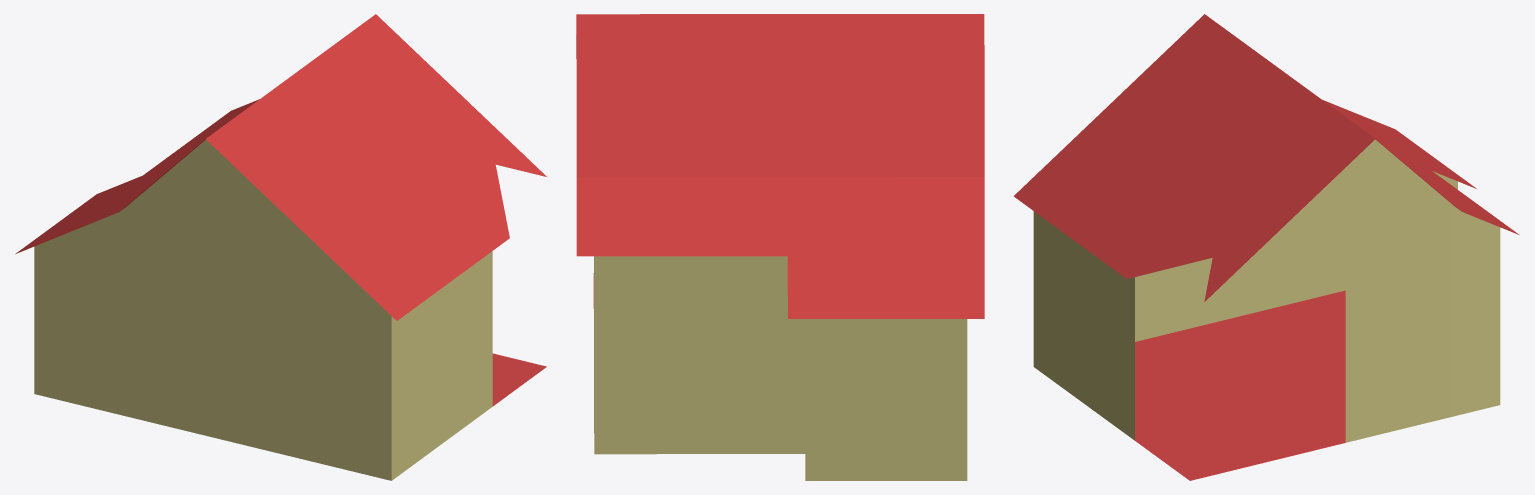
3 renders of one model, left to right at view 1: azimuth 30°, elevation 25°; view 2: azimuth 150°, elevation 25°; view 3: azimuth 270°, elevation 25°, orthographic. The views are drawn at different scales.
Bounding box in the file's own units: 17.2 × 17.25 × 11.41.
